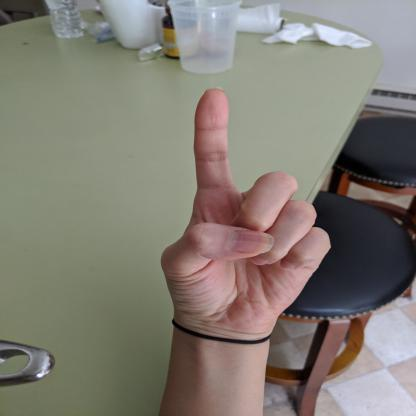D: (154, 84, 336, 338)
